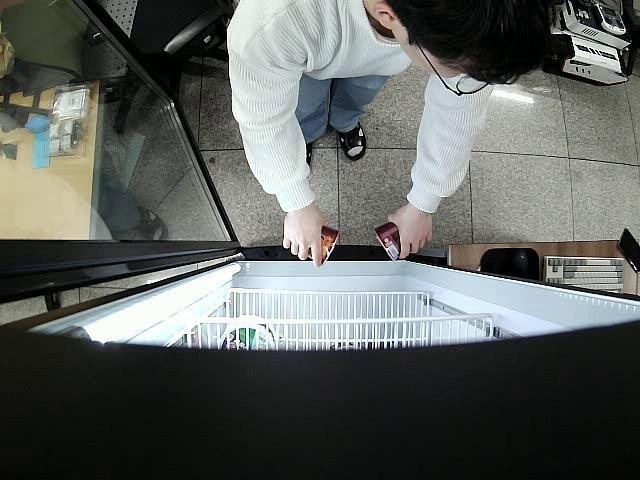06_nuguri_S: (374, 222, 413, 262), (306, 226, 341, 267)
